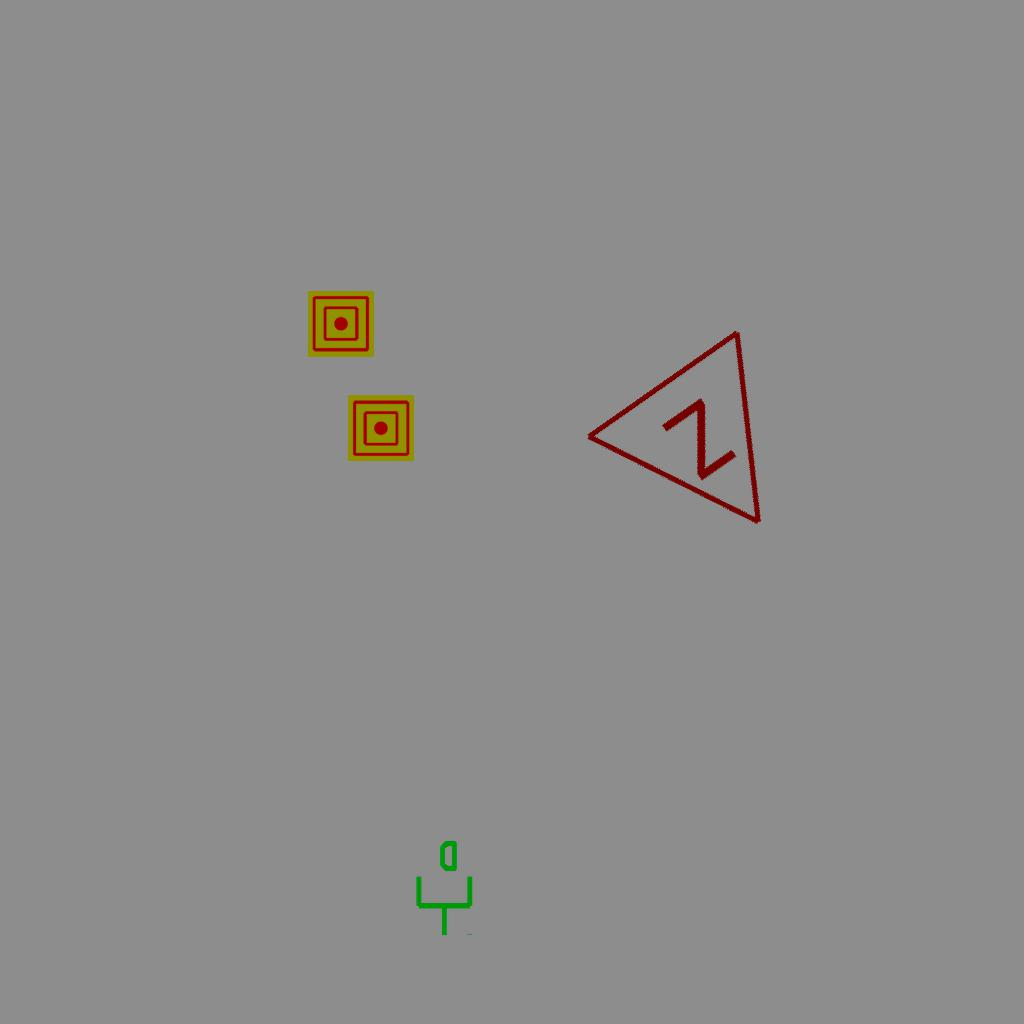Datenanschluss_einfach: (408, 838, 477, 938)
NAM-Nichtautomatischer_Melder: (348, 395, 414, 461), (308, 291, 374, 357)
Zimmersignalleuchte: (574, 312, 850, 590)
